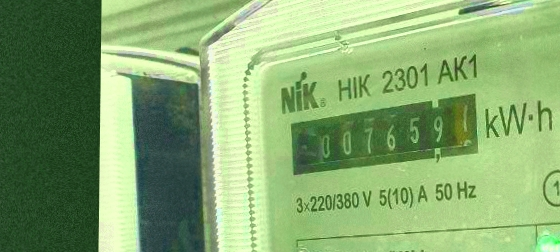0: (319, 130, 332, 158), (340, 128, 353, 155)
1: (458, 102, 470, 134)
5: (406, 114, 421, 146)
6: (384, 121, 397, 152)
7: (361, 122, 375, 154)
9: (430, 111, 445, 145)
screen: (276, 84, 498, 182)
